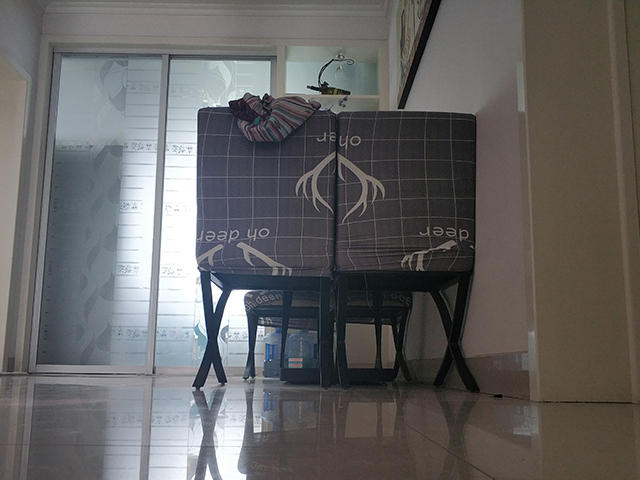stool: (191, 103, 483, 395)
